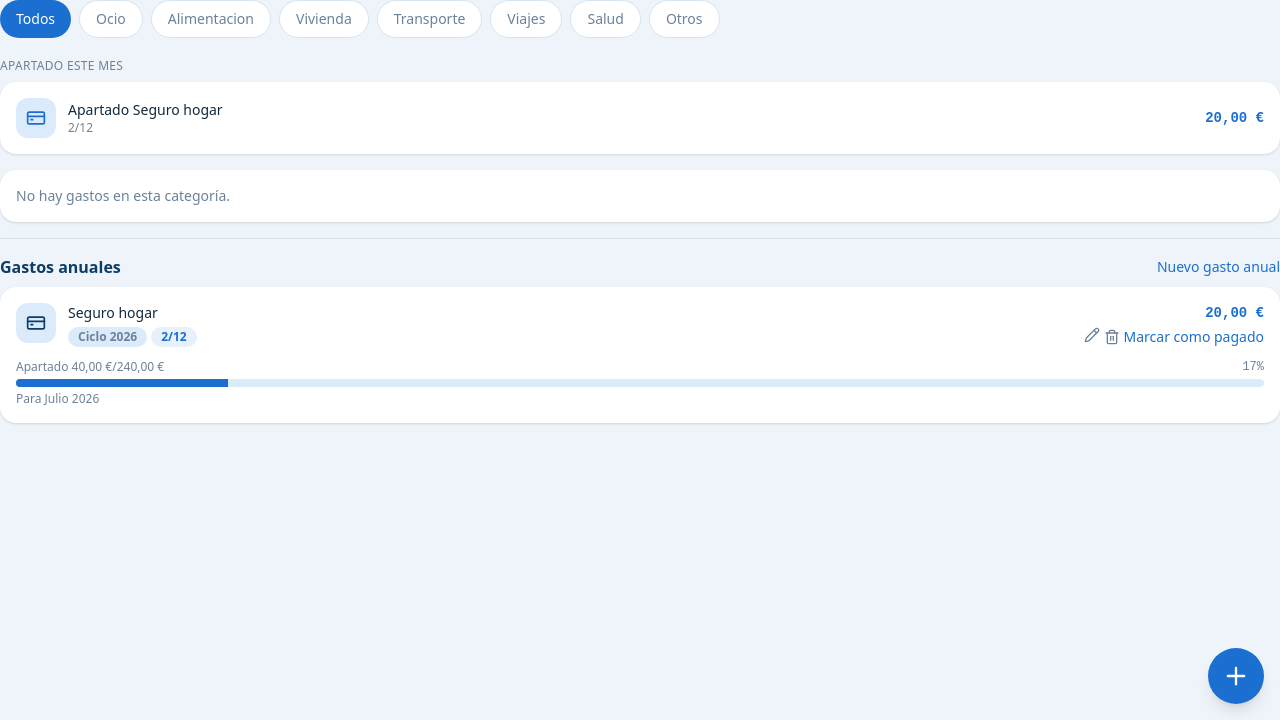
Test: GastosList › gastos anuales (confirmación sin window.confirm ni alert) › cancelar cierra el diálogo del gasto anual sin borrar nada
The image size is (1280, 720).
Click the button named "Eliminar". click: (1112, 337)
box: [1104,327,1120,347]
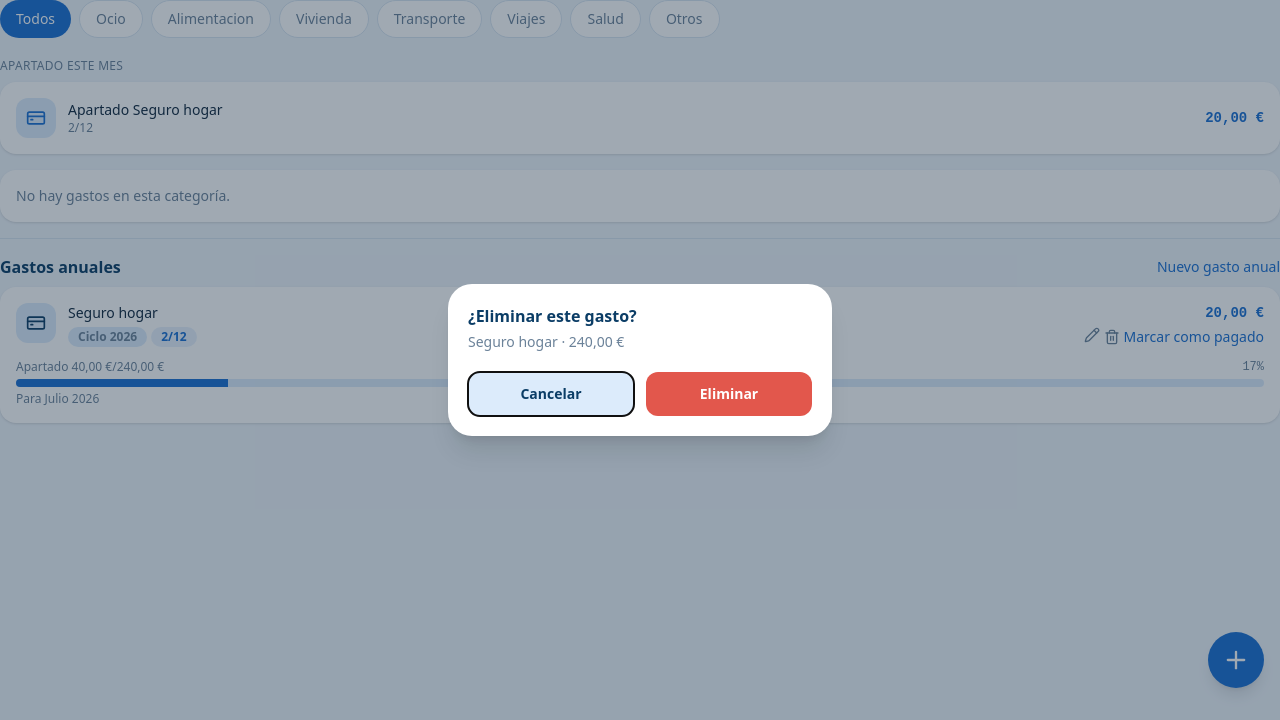
Click the button "Cancelar". click: (551, 394)
box: [468,372,634,416]
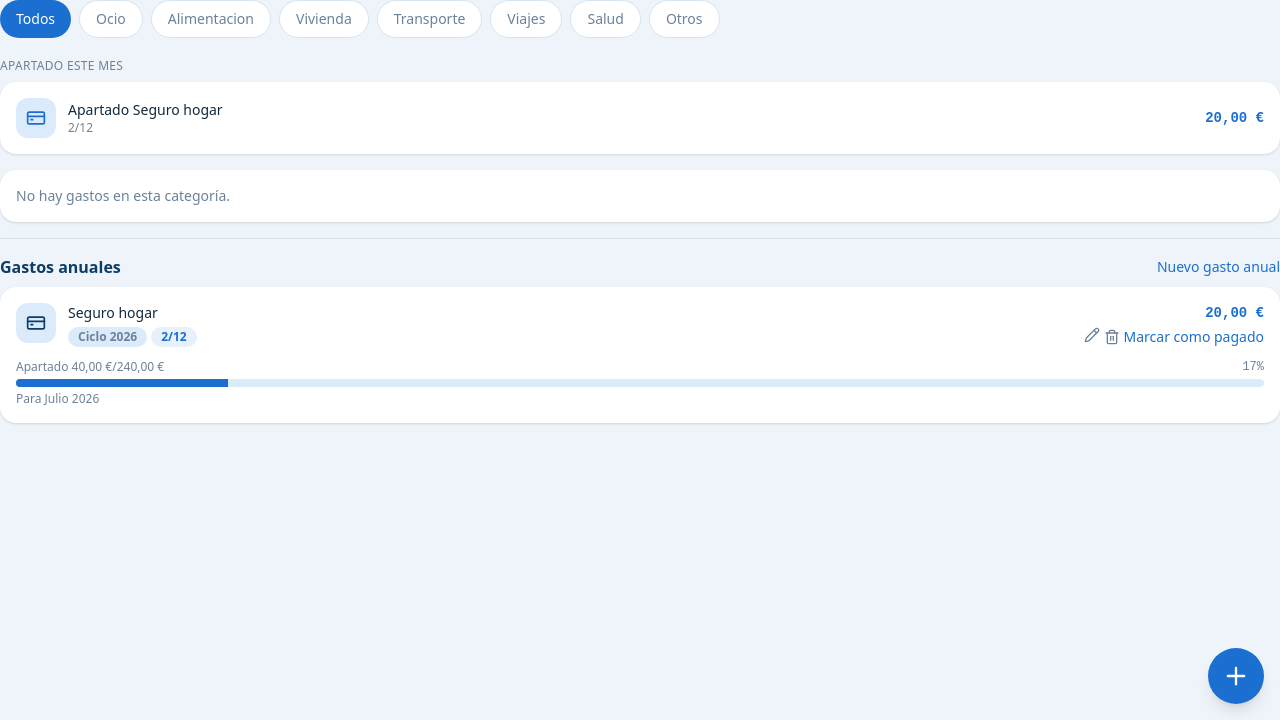
Now the dialog is gone
